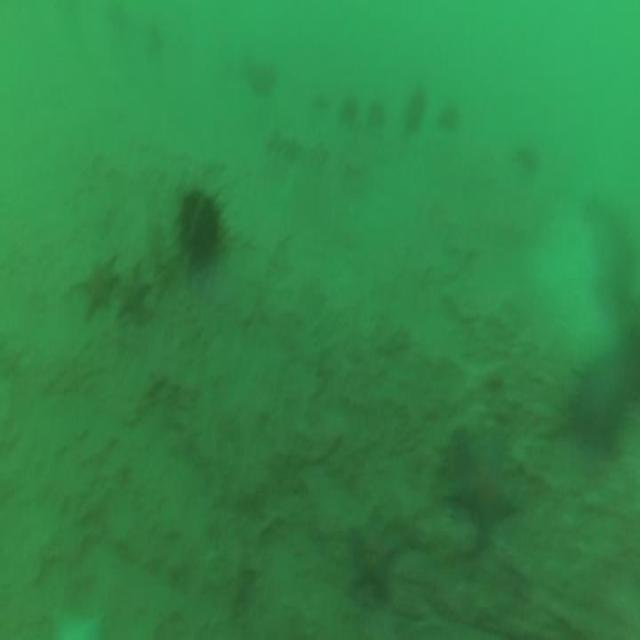echinus: (178, 192, 220, 258), (405, 90, 423, 134), (253, 63, 279, 93), (440, 104, 460, 136), (339, 95, 356, 125), (368, 100, 381, 134)
starfish: (444, 433, 518, 542), (574, 364, 620, 451), (353, 510, 395, 596), (79, 262, 115, 318), (118, 265, 146, 321)
